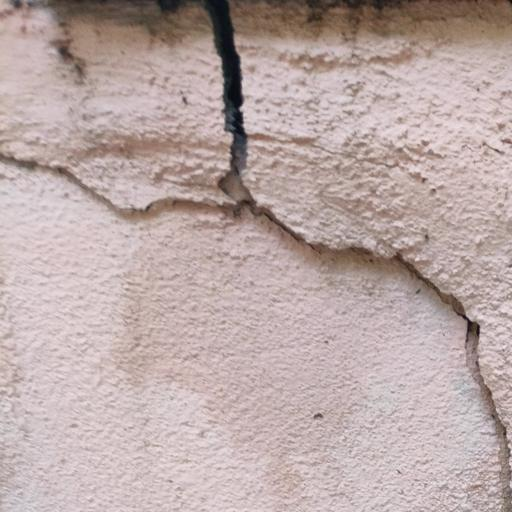major_crack: (171, 0, 304, 231)
